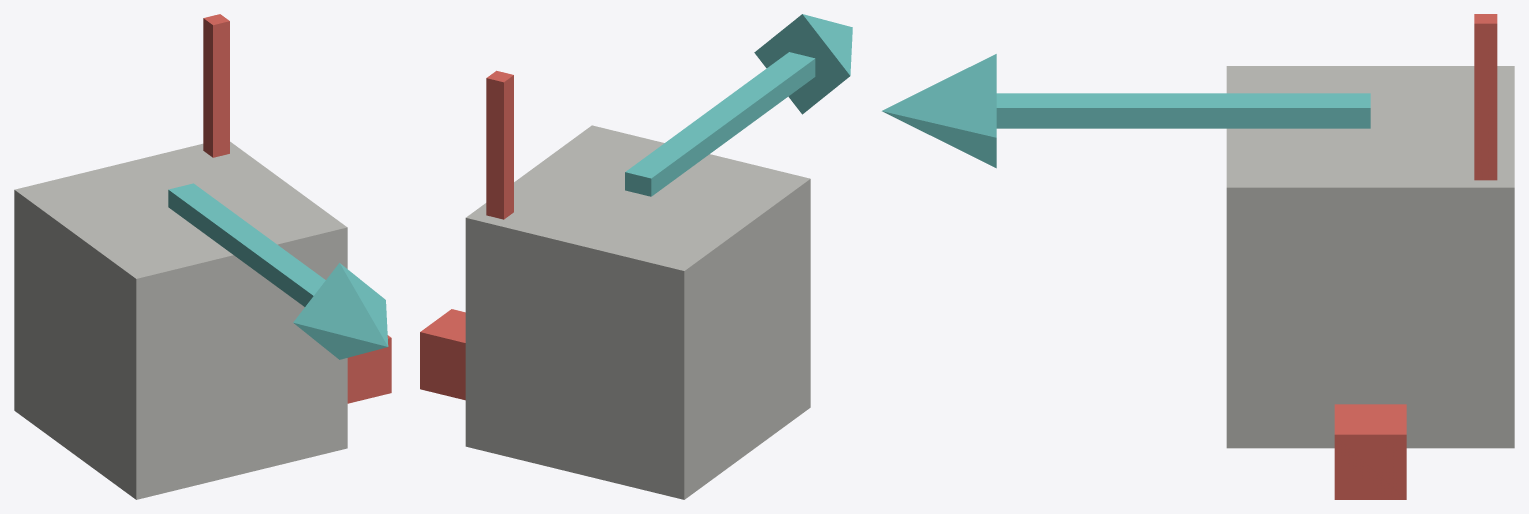
File: calibration.glb
3 renders of one model, left to right at view 1: azimuth 30°, elevation 25°; view 2: azimuth 150°, elevation 25°; view 3: azimuth 270°, elevation 25°, orthographic. The views are drawn at different scales.
Visible parts, largest first — view 1: cal-cube-1m, cal-arrow-blender-minus-y, cal-post-blender-xy, cal-marker-blender-plus-x; view 2: cal-cube-1m, cal-arrow-blender-minus-y, cal-post-blender-xy, cal-marker-blender-plus-x; view 3: cal-cube-1m, cal-arrow-blender-minus-y, cal-marker-blender-plus-x, cal-post-blender-xy.
Boxes of the visible parts, <box> form: cal-cube-1m: <box>14,141,347,499</box>; cal-arrow-blender-minus-y: <box>168,183,388,359</box>; cal-post-blender-xy: <box>203,14,229,157</box>; cal-marker-blender-plus-x: <box>347,335,391,403</box>; cal-cube-1m: <box>465,125,810,499</box>; cal-arrow-blender-minus-y: <box>625,14,852,196</box>; cal-post-blender-xy: <box>486,70,513,219</box>; cal-marker-blender-plus-x: <box>420,309,465,400</box>; cal-cube-1m: <box>1226,66,1514,448</box>; cal-arrow-blender-minus-y: <box>882,54,1370,168</box>; cal-marker-blender-plus-x: <box>1334,404,1406,499</box>; cal-post-blender-xy: <box>1474,14,1497,180</box>.
Bounding box in the file's own units: 1.43 × 1.6 × 2.2.
